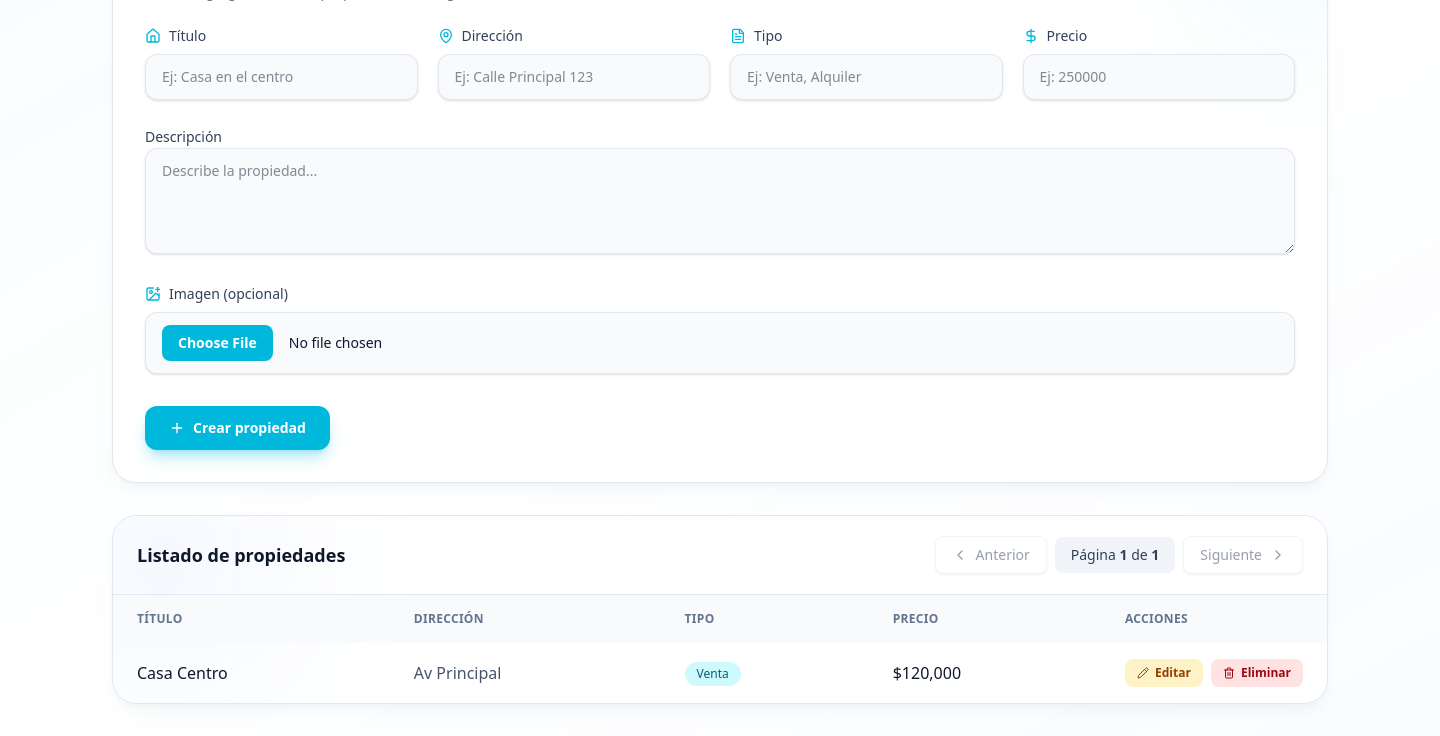
Test: PropertiesPage › cancela edición
(page scrolled)
Expected: the text "Casa Centro" is shown, [137, 662, 228, 684]
Click the button "Editar": (1164, 673) [1125, 659, 1203, 687]
(page scrolled)
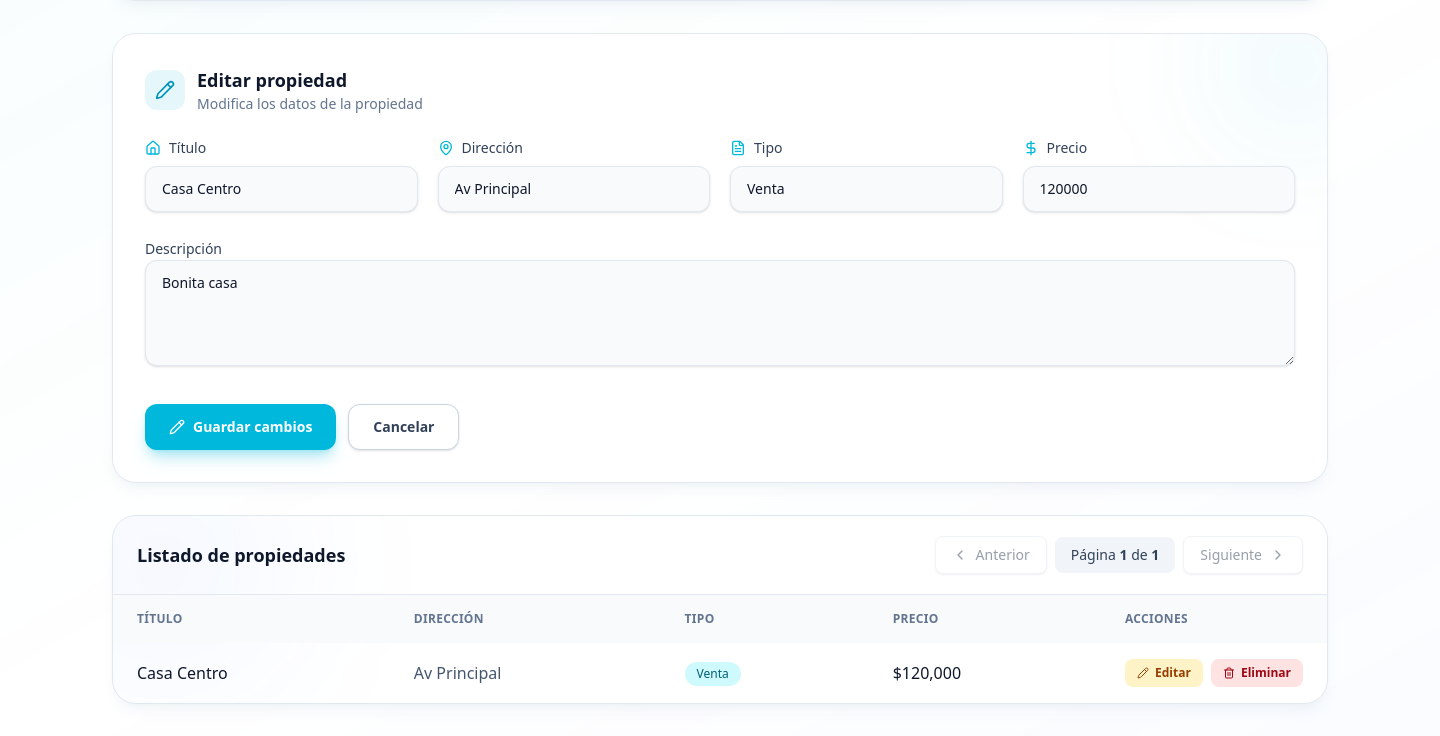
Click the button "Cancelar": (404, 427) [348, 404, 459, 450]
(page scrolled)
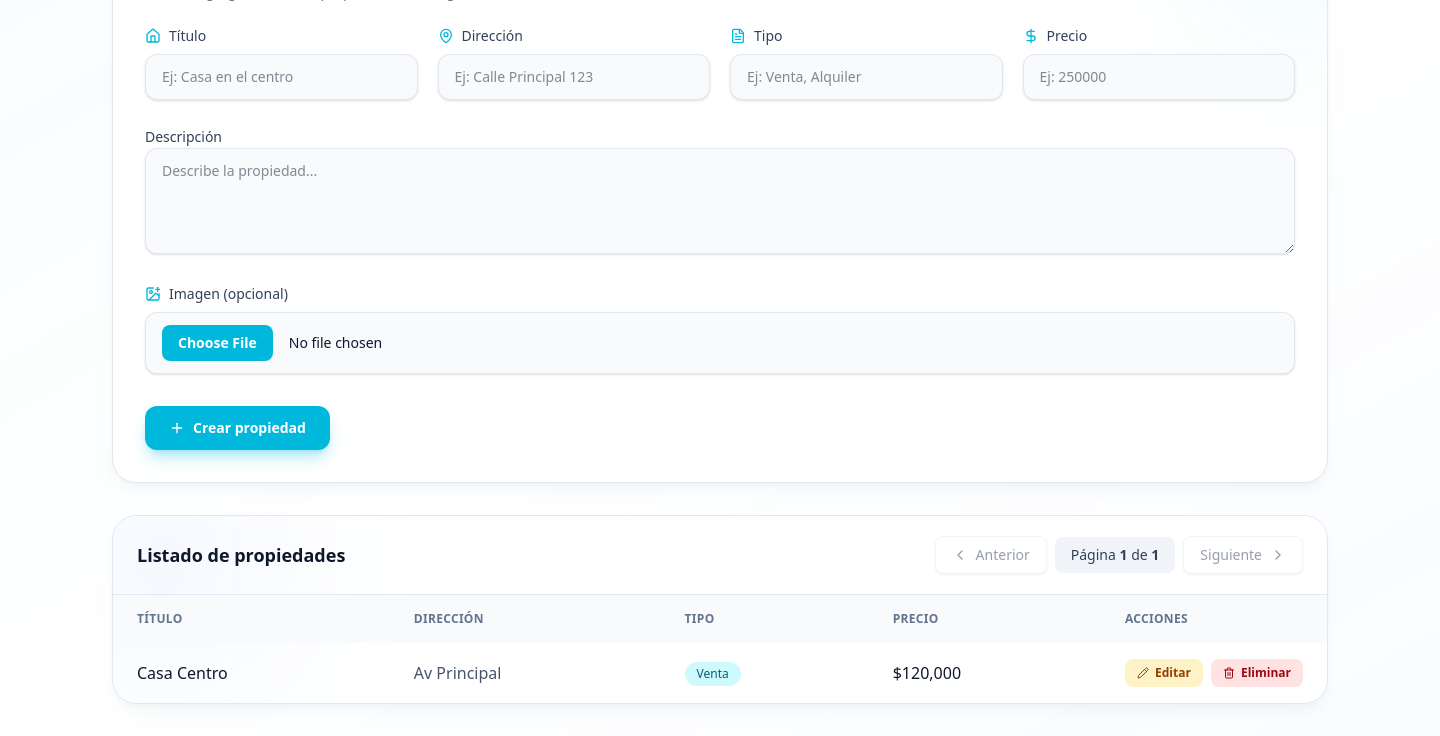
Expected: the button "Crear propiedad" is shown, [145, 406, 330, 450]
